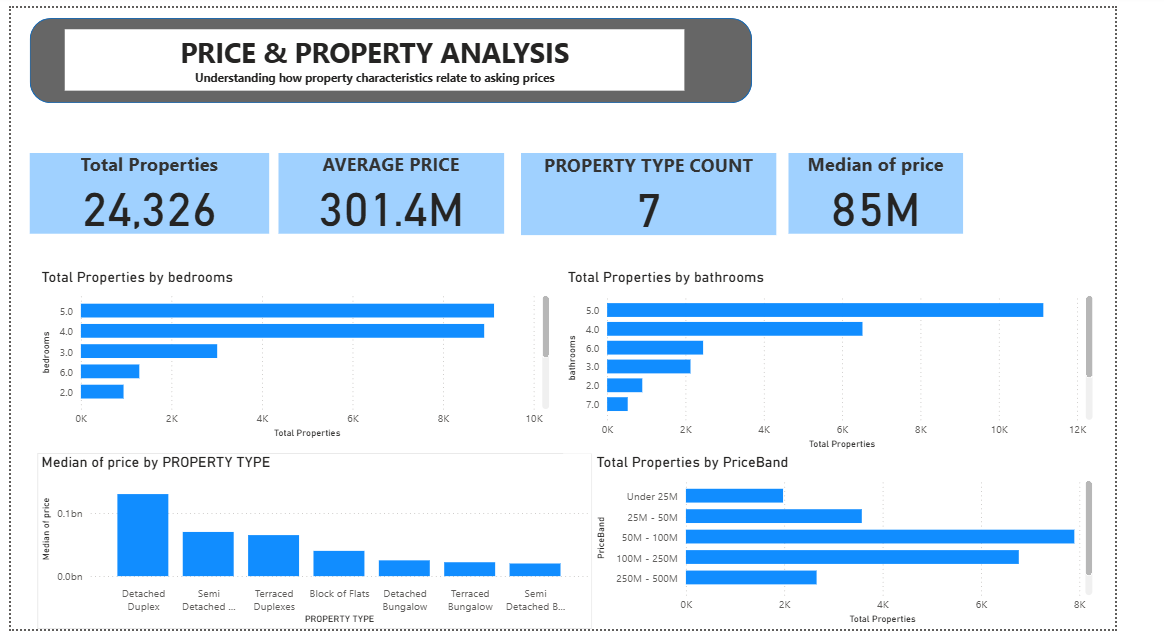

This screenshot's page, from the dashboard's own definition file:
{"tool":"powerbi","page":{"name":"Price & Property Analysis","canvas":[1280,720],"ordinal":1},"visuals":[{"type":"shape","box":[21.2,11.2,837.5,98.8],"z":0},{"type":"textbox","box":[62.5,25,718.8,71.2],"z":1000},{"type":"cardVisual","fields":{"Data":["Median(clean_nigeriarealestate_dataset.price)"]},"box":[901.2,167.5,202.5,93.8],"z":2000},{"type":"cardVisual","fields":{"Data":["clean_nigeriarealestate_dataset.AVERAGE PRICE"]},"box":[310,167.5,261.2,93.8],"z":3000},{"type":"clusteredBarChart","fields":{"Category":["clean_nigeriarealestate_dataset.bedrooms"],"Y":["clean_nigeriarealestate_dataset.Total Properties"]},"box":[30,301.2,598.8,202.5],"z":4000},{"type":"clusteredColumnChart","fields":{"Y":["Median(clean_nigeriarealestate_dataset.price)"],"Category":["clean_nigeriarealestate_dataset.PROPERTY TYPE"]},"box":[30,516.2,643.8,203.8],"z":5000},{"type":"clusteredBarChart","fields":{"Category":["clean_nigeriarealestate_dataset.bathrooms"],"Y":["clean_nigeriarealestate_dataset.Total Properties"]},"box":[640,301.2,618.8,215],"z":6000},{"type":"clusteredBarChart","fields":{"Category":["clean_nigeriarealestate_dataset.PriceBand"],"Y":["clean_nigeriarealestate_dataset.Total Properties"]},"box":[673.8,516.2,585,203.8],"z":7000},{"type":"cardVisual","fields":{"Data":["clean_nigeriarealestate_dataset.Total Properties"]},"box":[21.2,168.8,277.5,93.8],"z":8000},{"type":"cardVisual","fields":{"Data":["clean_nigeriarealestate_dataset.PROPERTY TYPE COUNT"]},"box":[591.2,168.8,296.2,95],"z":9000}]}

Visuals, with their boxes in screenshot pixels (x1, y1, x2, y2), scaled from the page's 1280x720 canvas onto the 1164x640 screenshot:
shape: BBox(19, 10, 781, 98)
textbox: BBox(57, 22, 710, 86)
cardVisual - Median(clean_nigeriarealestate_dataset.price): BBox(820, 149, 1004, 232)
cardVisual - clean_nigeriarealestate_dataset.AVERAGE PRICE: BBox(282, 149, 519, 232)
clusteredBarChart - clean_nigeriarealestate_dataset.bedrooms x clean_nigeriarealestate_dataset.Total Properties: BBox(27, 268, 572, 448)
clusteredColumnChart - Median(clean_nigeriarealestate_dataset.price) x clean_nigeriarealestate_dataset.PROPERTY TYPE: BBox(27, 459, 613, 639)
clusteredBarChart - clean_nigeriarealestate_dataset.bathrooms x clean_nigeriarealestate_dataset.Total Properties: BBox(582, 268, 1145, 459)
clusteredBarChart - clean_nigeriarealestate_dataset.PriceBand x clean_nigeriarealestate_dataset.Total Properties: BBox(613, 459, 1145, 639)
cardVisual - clean_nigeriarealestate_dataset.Total Properties: BBox(19, 150, 272, 233)
cardVisual - clean_nigeriarealestate_dataset.PROPERTY TYPE COUNT: BBox(538, 150, 807, 234)
